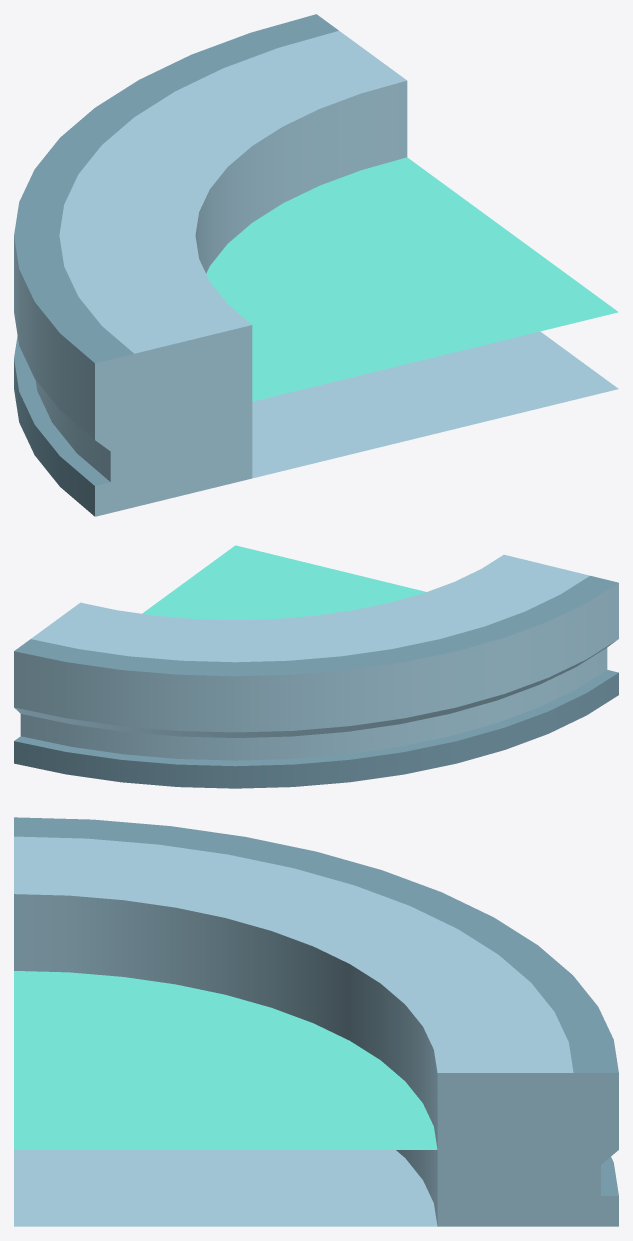
File: fountainCurved.obj
3 renders of one model, top to bottom at view 1: azimuth 30°, elevation 25°; view 2: azimuth 150°, elevation 25°; view 3: azimuth 270°, elevation 25°, orthographic. The views are drawn at different scales.
Visible parts, largest first — view 1: fountainCurved; view 2: fountainCurved; view 3: fountainCurved.
Boxes of the visible parts, left/top/right/bottom form: fountainCurved: left=14, top=14, right=618, bottom=516; fountainCurved: left=14, top=545, right=618, bottom=788; fountainCurved: left=14, top=817, right=618, bottom=1226.
Bounding box in the file's own units: 1 × 0.28 × 1.
